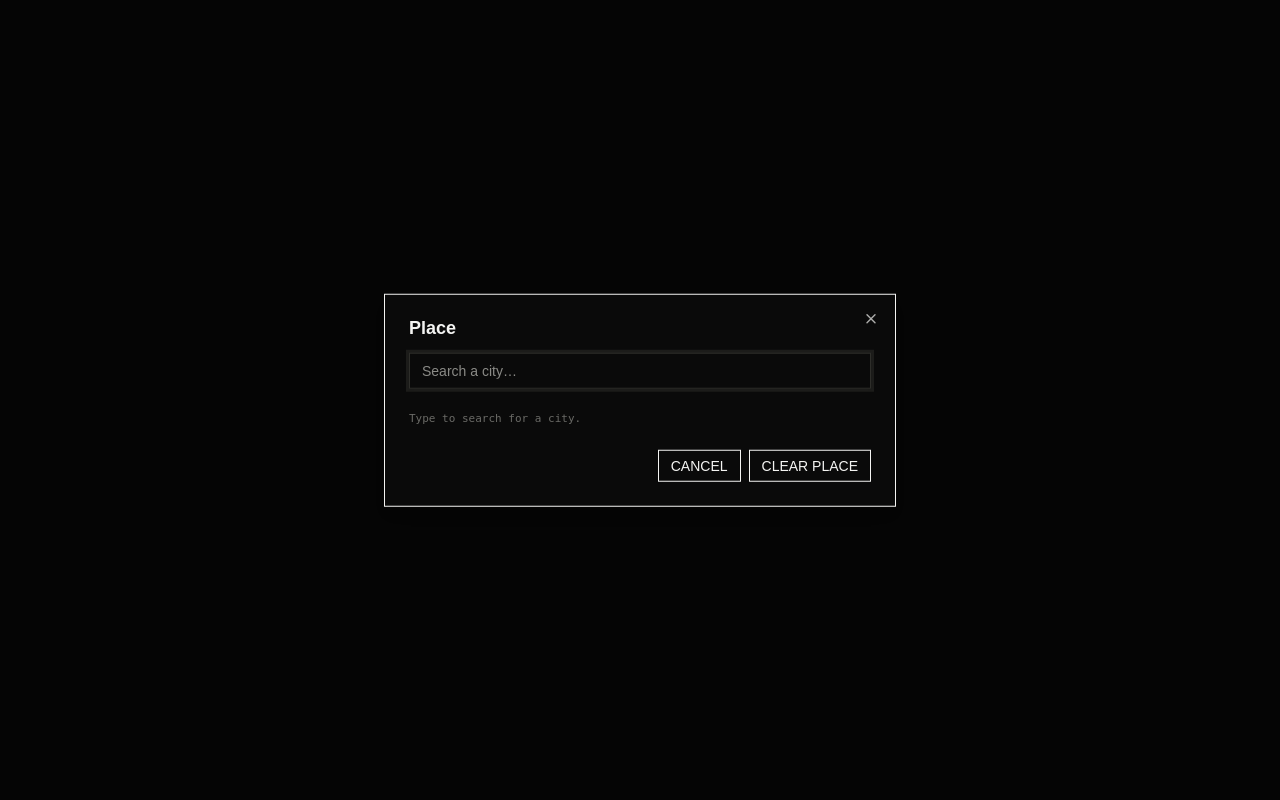
does not warn about duplicate keys when two results share name/admin/country but differ in lat/lon
Type "spring" into the field with placeholder "Search a city…" at (640, 371), box [409, 353, 871, 389]
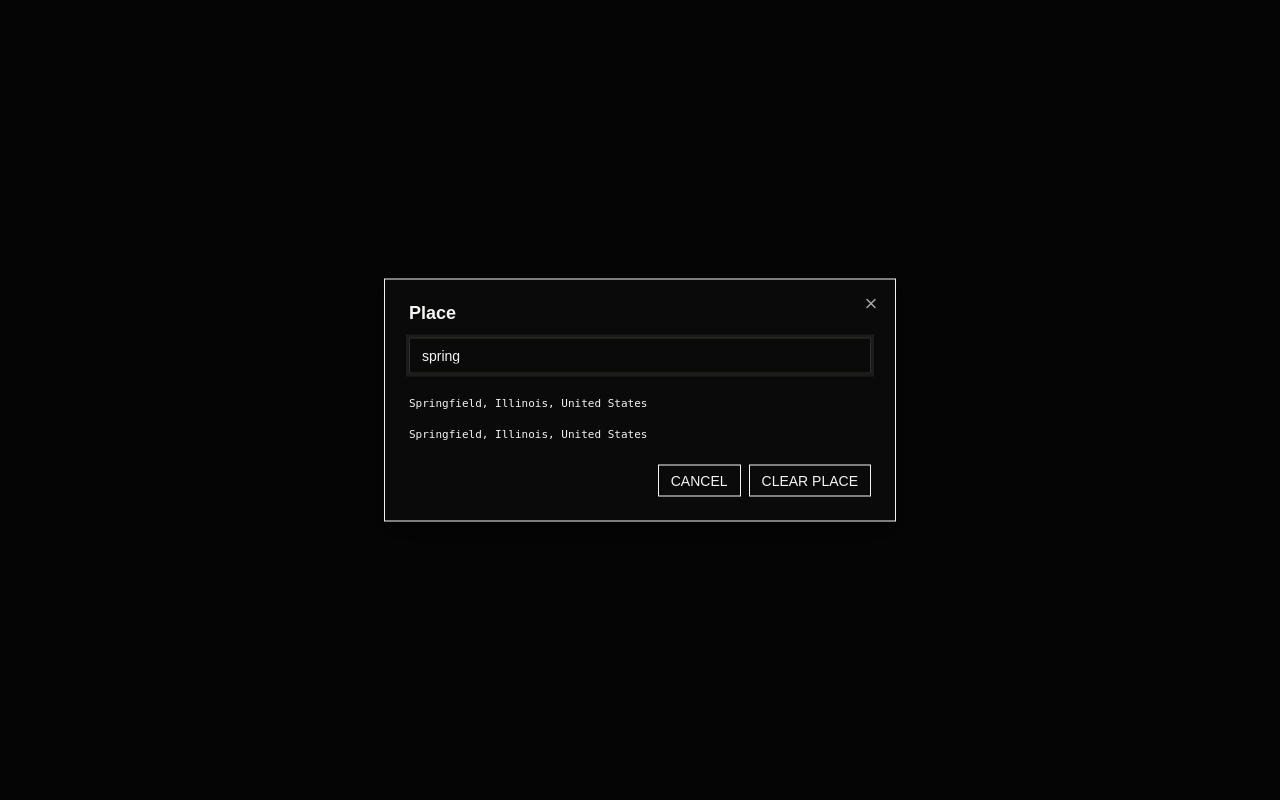
expect the number of buttons "Springfield, Illinois, United States" is 2: met, box [409, 390, 871, 418]; [409, 420, 871, 448]
